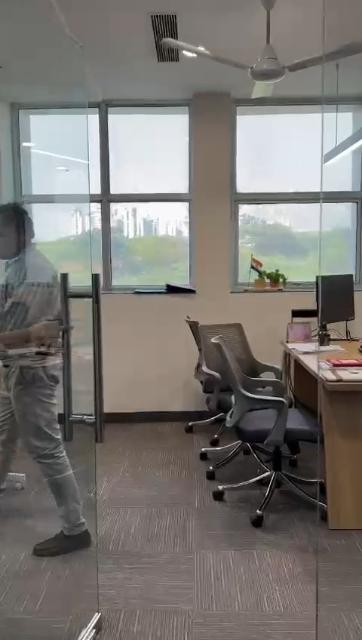floor: (0, 421, 362, 640)
moving-obj: (0, 216, 118, 564)
object: (174, 314, 296, 540), (302, 255, 362, 348)
wall: (112, 287, 186, 411), (189, 104, 231, 314)
